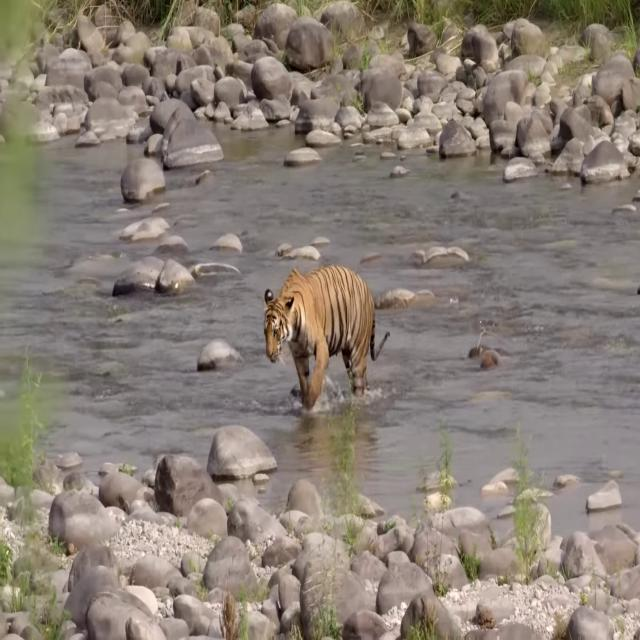tiger: (263, 266, 391, 410)
